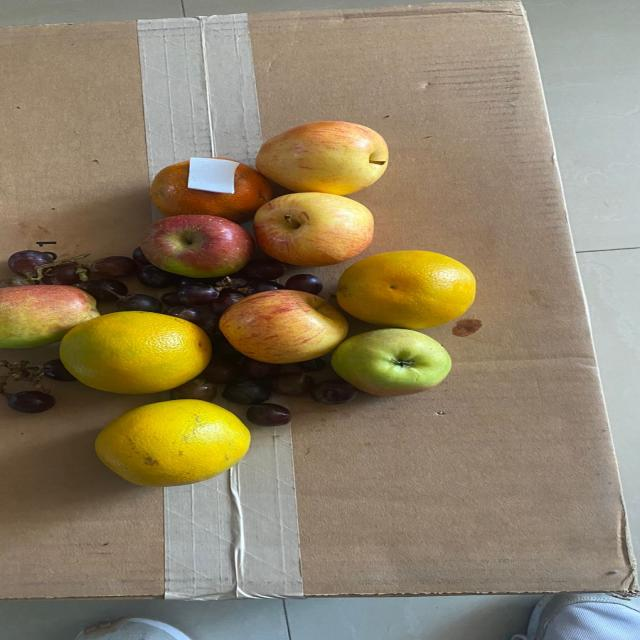hoja: (180, 153, 246, 192)
